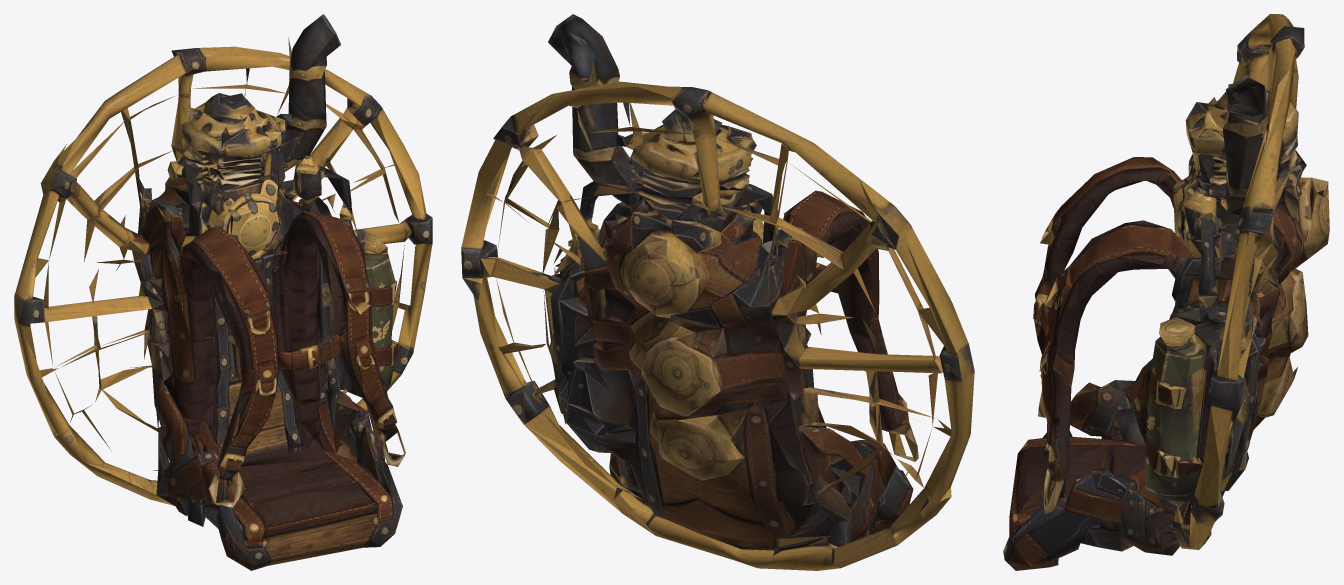
Rendered from para-pack.glb.
3 renders of one model, left to right at view 1: azimuth 30°, elevation 25°; view 2: azimuth 150°, elevation 25°; view 3: azimuth 270°, elevation 25°, orthographic. The views are drawn at different scales.
Bounding box in the file's own units: 1.92 × 2 × 1.13.
1 material, 1 textured.
